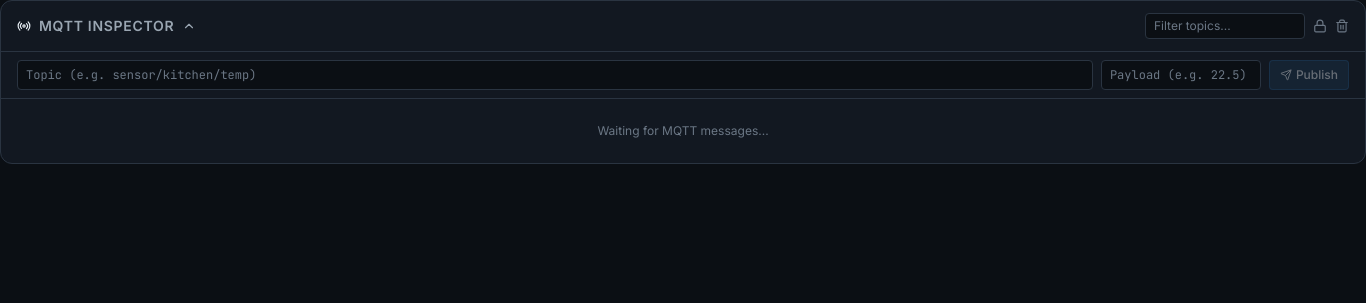
Scenario: MqttInspector › private topics › adds a filter through the panel input
Click the button titled "Manage private topics" at (1320, 26), box [1313, 19, 1327, 33]
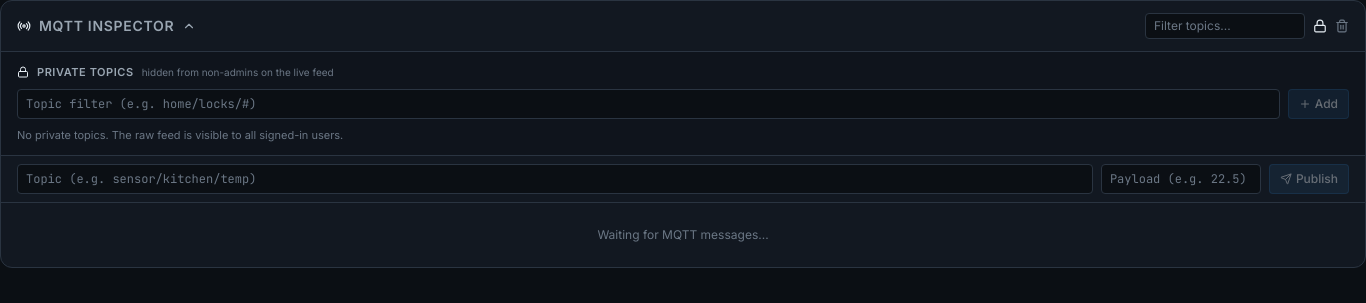
Type "presence/#" into the field with placeholder "Topic filter (e.g. home/locks/#)" at (648, 104), box [17, 88, 1280, 118]
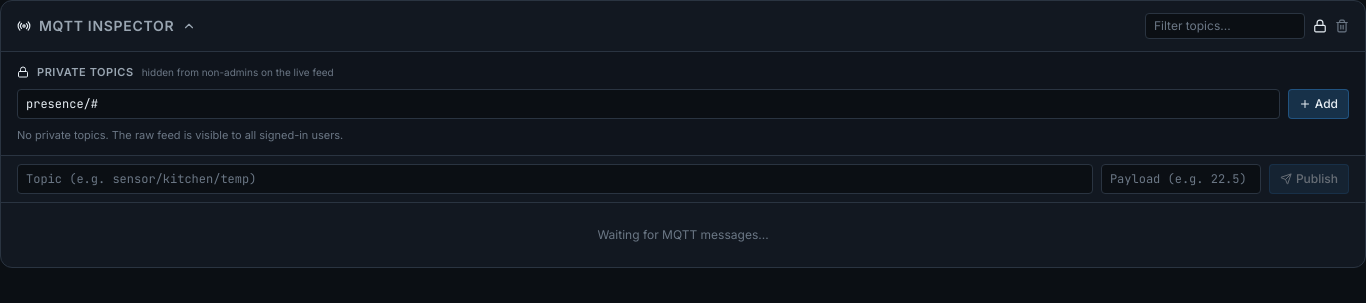
Click the button "Add" at (1318, 104), box [1288, 88, 1349, 118]
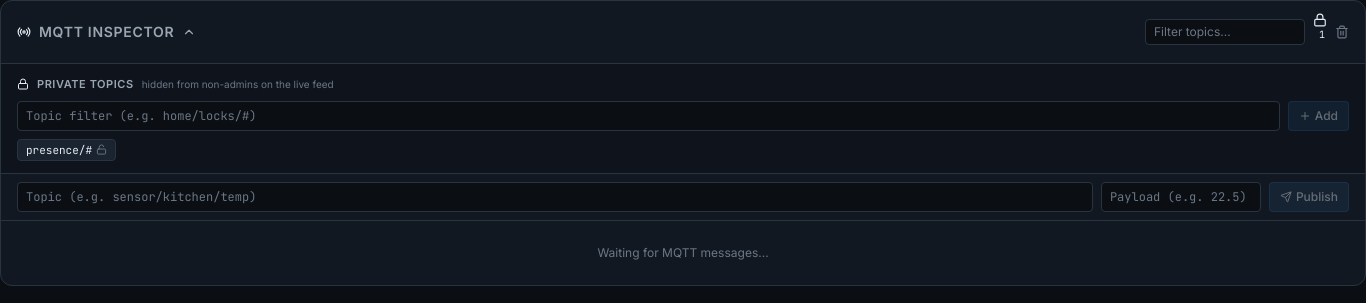
Check: the text "presence/#" is shown, box [17, 138, 116, 161]
